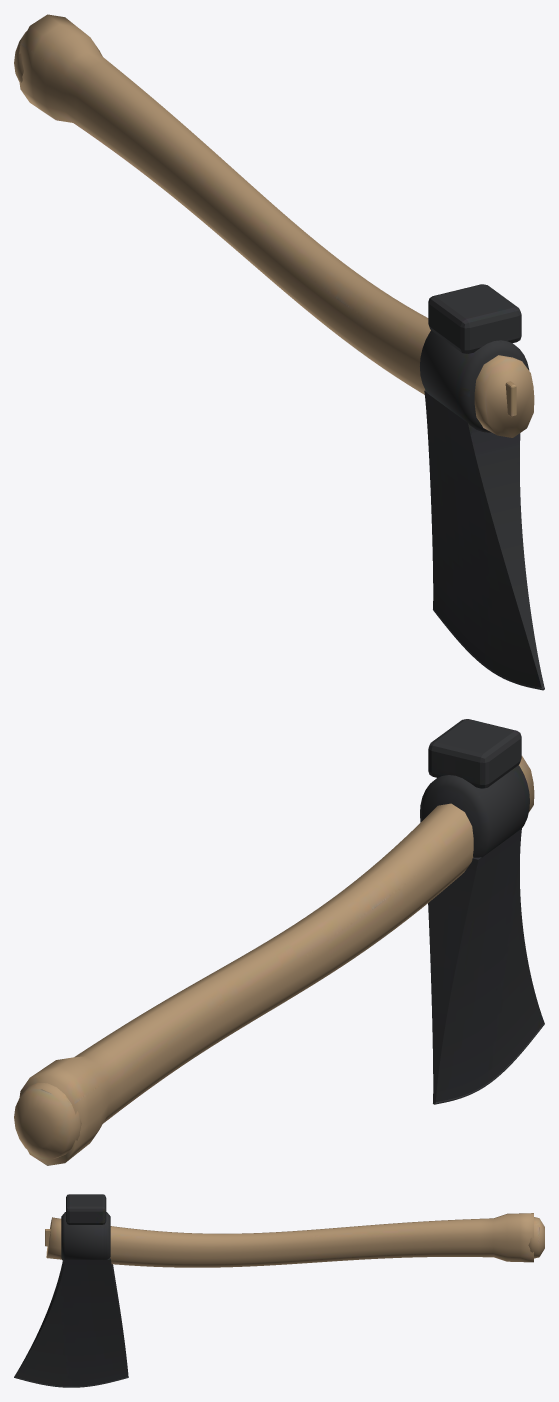
Rendered from tool_axe.glb.
3 renders of one model, top to bottom at view 1: azimuth 30°, elevation 25°; view 2: azimuth 150°, elevation 25°; view 3: azimuth 270°, elevation 25°, orthographic. The views are drawn at different scales.
Parts seen in each view (by area): view 1: axe-haft, axe-head; view 2: axe-haft, axe-head; view 3: axe-haft, axe-head.
Part boxes in pixels (<box>): axe-haft: <box>14,14,534,437</box>; axe-head: <box>420,284,544,690</box>; axe-haft: <box>14,756,534,1165</box>; axe-head: <box>420,719,544,1104</box>; axe-haft: <box>46,1213,544,1267</box>; axe-head: <box>14,1194,128,1387</box>.
Size of what is drawn, in the model's own units: 0.0464 by 0.2261 by 0.5808.
1 material, 1 textured.
